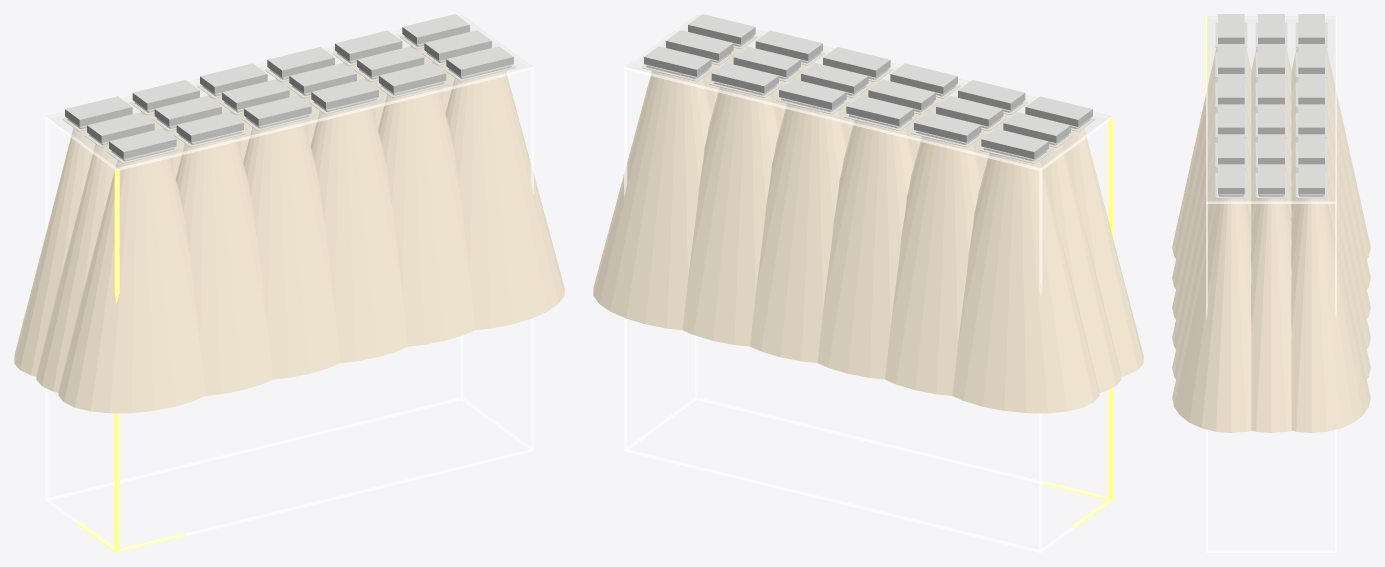
The model's file is isik_twinkle.glb.
3 views of the same model, side by side, from view 1: azimuth 30°, elevation 25°; view 2: azimuth 150°, elevation 25°; view 3: azimuth 270°, elevation 25° (orthographic). The views are drawn at different scales.
Visible parts, largest first — view 1: ar_ar_huzme, TWINKLE_beyaz (×18), ar_hayalet, hayalet_tavan, ar_isaret_altin; view 2: ar_ar_huzme, TWINKLE_beyaz (×18), ar_hayalet, hayalet_tavan, ar_isaret_altin; view 3: ar_ar_huzme, TWINKLE_beyaz (×18), hayalet_tavan, ar_hayalet, TWINKLE_cerceve (×3), ar_isaret_altin.
Boxes of the visible parts, x1=… form: ar_ar_huzme: x1=14, y1=46, x2=564, y2=413; TWINKLE_beyaz (×18): x1=65, y1=14, x2=513, y2=158; ar_hayalet: x1=45, y1=15, x2=533, y2=552; hayalet_tavan: x1=47, y1=15, x2=531, y2=167; ar_isaret_altin: x1=76, y1=169, x2=185, y2=552; ar_ar_huzme: x1=593, y1=46, x2=1143, y2=413; TWINKLE_beyaz (×18): x1=644, y1=14, x2=1092, y2=158; ar_hayalet: x1=624, y1=15, x2=1112, y2=552; hayalet_tavan: x1=626, y1=15, x2=1110, y2=167; ar_isaret_altin: x1=1043, y1=117, x2=1113, y2=528; ar_ar_huzme: x1=1172, y1=48, x2=1370, y2=432; TWINKLE_beyaz (×18): x1=1218, y1=14, x2=1324, y2=194; hayalet_tavan: x1=1207, y1=16, x2=1335, y2=200; ar_hayalet: x1=1206, y1=16, x2=1336, y2=552; TWINKLE_cerceve (×3): x1=1215, y1=172, x2=1327, y2=198; ar_isaret_altin: x1=1205, y1=16, x2=1208, y2=96.
Bounding box in the file's own units: 2.96 × 2.24 × 1.13.
Materials: 10 (1 with a texture image).
